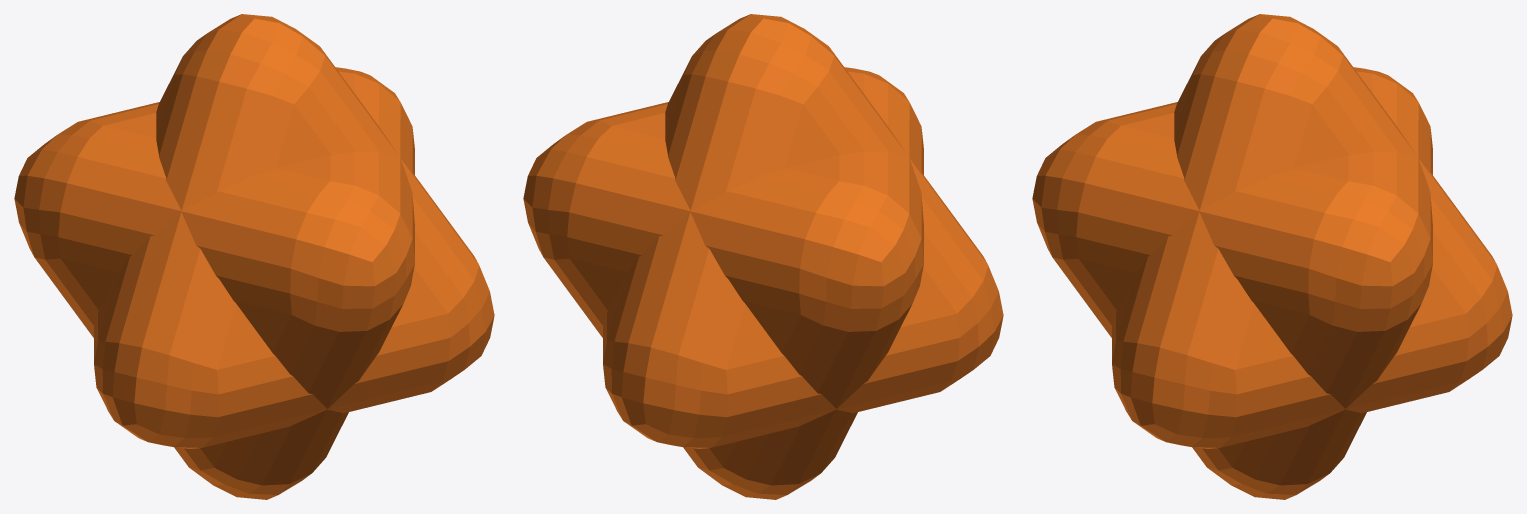
The model's file is GRATITUDE CRYSTAL ROUGH-ROTUND.fbx.
3 views of the same model, side by side, from view 1: azimuth 30°, elevation 25°; view 2: azimuth 150°, elevation 25°; view 3: azimuth 270°, elevation 25° (orthographic).
Parts seen in each view (by area): view 1: Circle.007; view 2: Circle.007; view 3: Circle.007.
Boxes of the visible parts, bbox=[...] form: Circle.007: bbox=[14, 14, 494, 499]; Circle.007: bbox=[523, 14, 1003, 499]; Circle.007: bbox=[1032, 14, 1512, 499].
Bounding box in the file's own units: 151 × 185 × 169.
